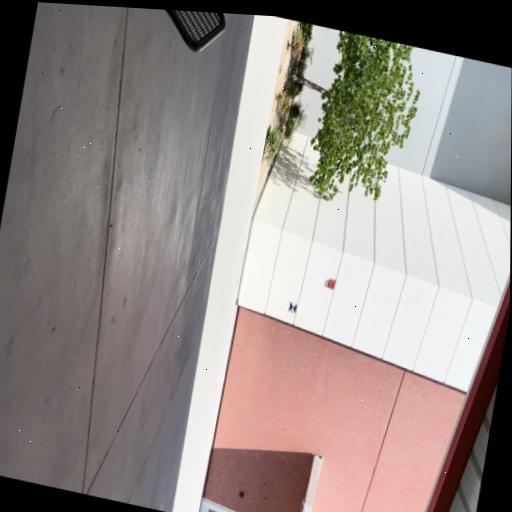target9: (287, 301, 297, 314)
